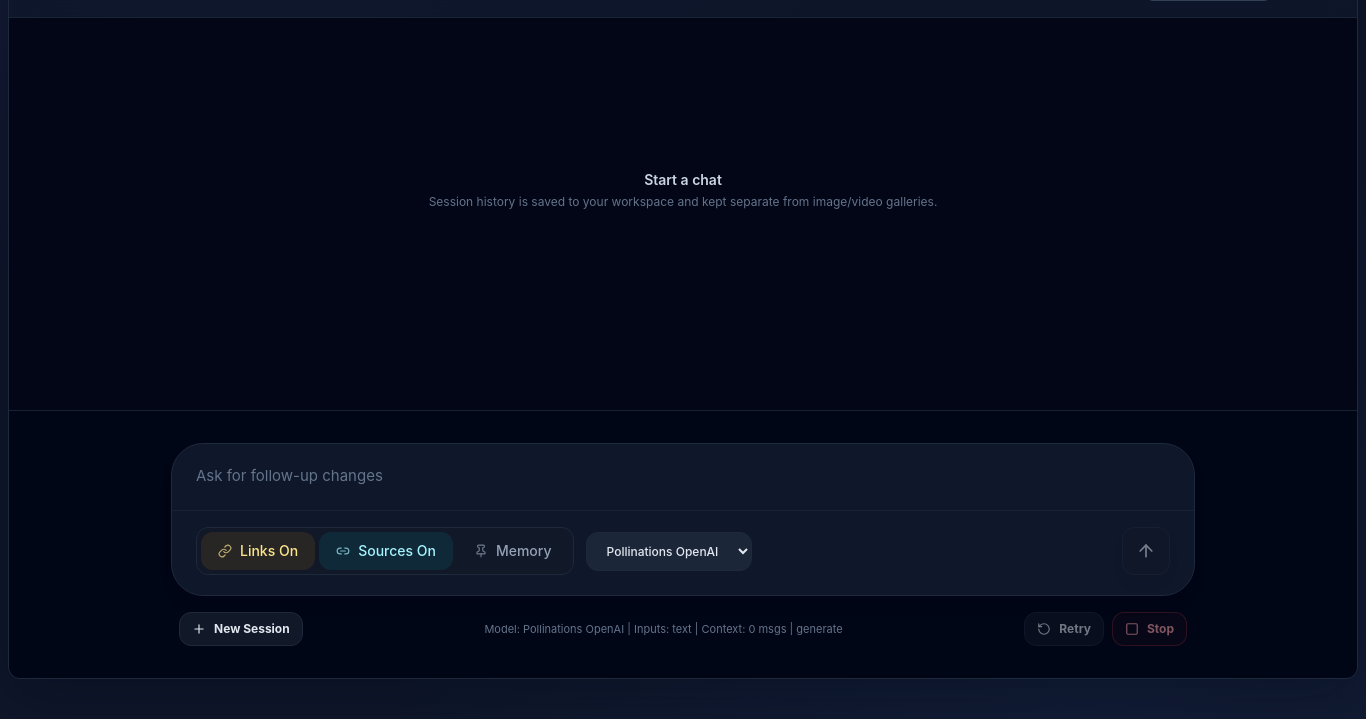
Scenario: AIChat visual regression states › captures stopped state
(page scrolled)
Step 1. Type "Capture stopped state" into the text box with placeholder "Ask for follow-up changes" → (683, 474), box [172, 444, 1194, 504]
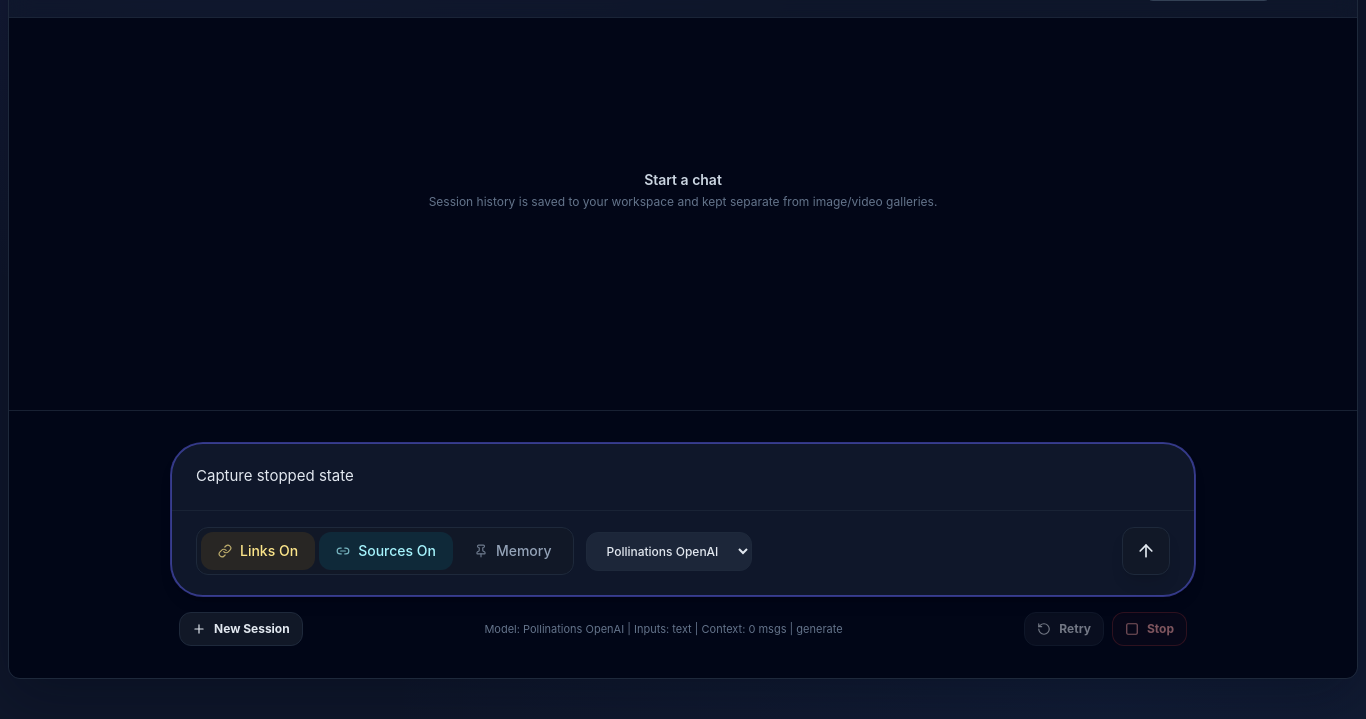
Step 2. Click the button titled "Send" → (1146, 551), box [1122, 527, 1170, 575]
(page scrolled)
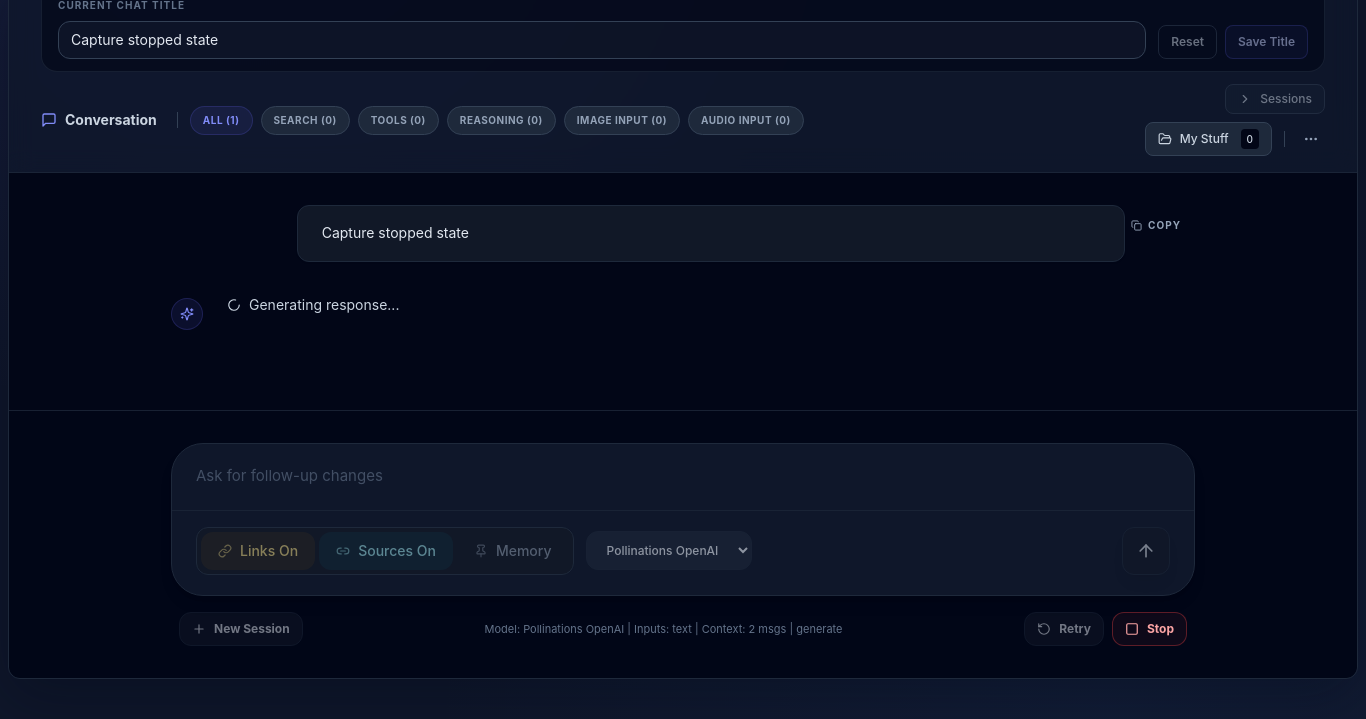
Step 3. Click the button "Stop" → (1149, 629), box [1112, 612, 1187, 646]
(page scrolled)
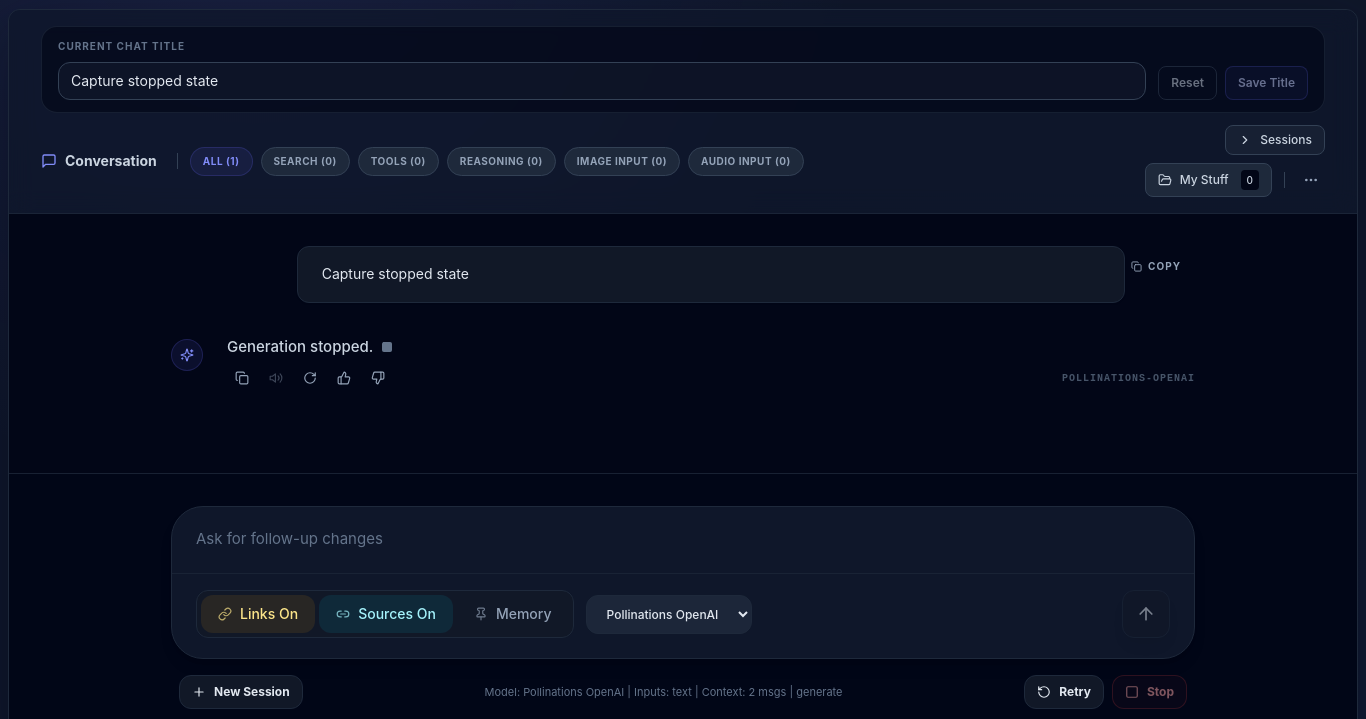
expect the text "Generation stopped." is shown: met, box [227, 337, 393, 356]
